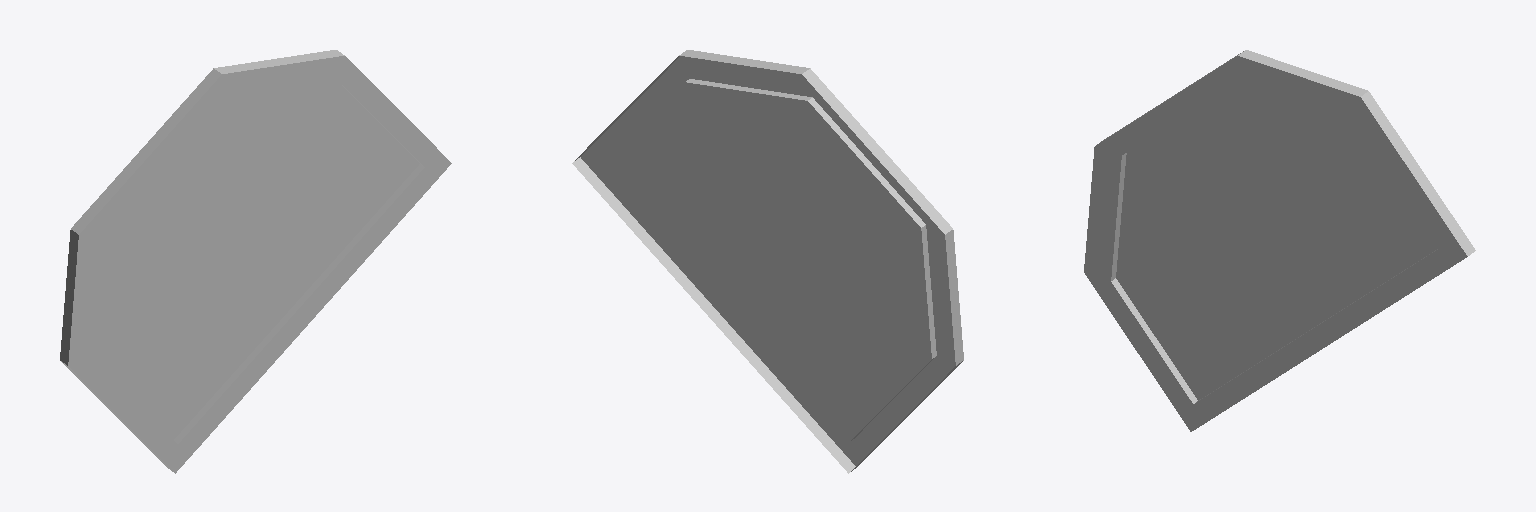
File: Prop_5.obj
3 views of the same model, side by side, from view 1: azimuth 30°, elevation 25°; view 2: azimuth 150°, elevation 25°; view 3: azimuth 330°, elevation 25° (orthographic).
Parts seen in each view (by area): view 1: SM_SampleBuilding3.004; view 2: SM_SampleBuilding3.004; view 3: SM_SampleBuilding3.004.
Boxes of the visible parts, <box> form: SM_SampleBuilding3.004: <box>60,50,451,473</box>; SM_SampleBuilding3.004: <box>572,50,963,473</box>; SM_SampleBuilding3.004: <box>1084,50,1475,431</box>.
Size of the model in its own units: 1.45 by 1.4 by 0.0549.